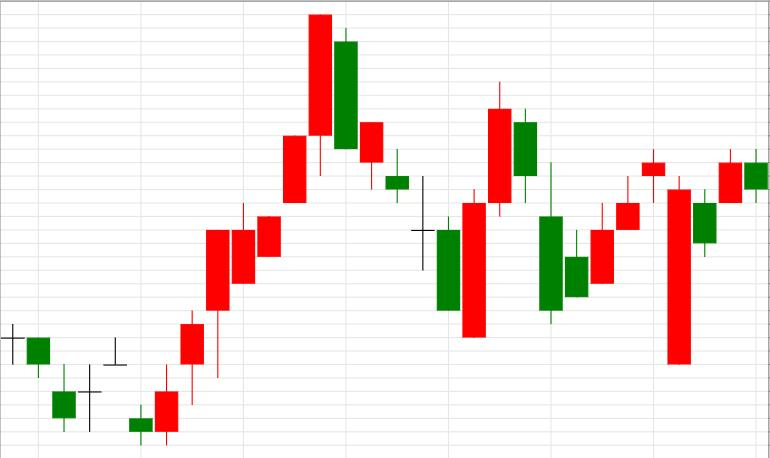bullish_engulfing_rise: (334, 27, 486, 338)
